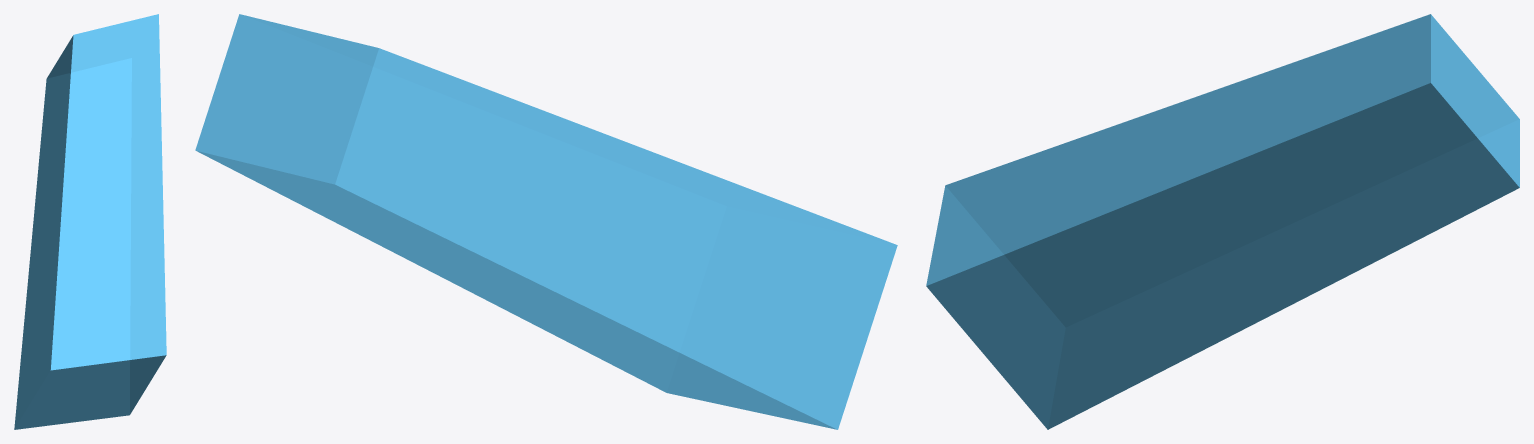
Rendered from Event_421127236_HBrechit_6.fbx.
3 views of the same model, side by side, from view 1: azimuth 30°, elevation 25°; view 2: azimuth 150°, elevation 25°; view 3: azimuth 270°, elevation 25° (orthographic). The views are drawn at different scales.
Parts seen in each view (by area): view 1: Model; view 2: Model; view 3: Model.
Boxes of the visible parts, <box> form: Model: <box>14,14,166,429</box>; Model: <box>195,14,897,429</box>; Model: <box>926,14,1519,429</box>.
Size of the model in its own units: 1.34 by 1.41 by 1.63.
